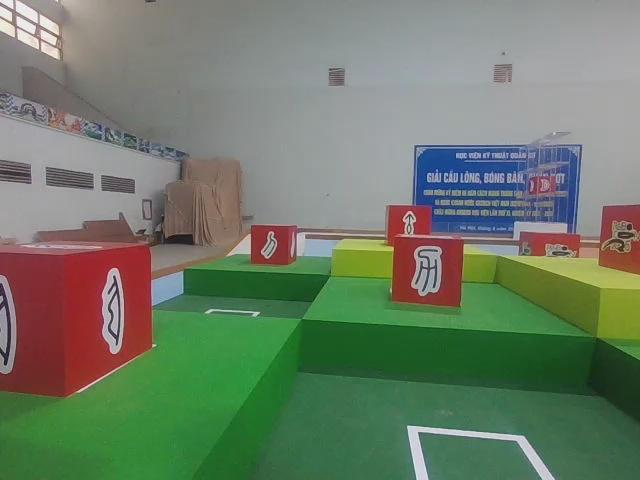R1: (593, 201, 640, 276)
R2 Fake: (389, 233, 466, 309)
R2 Real: (0, 238, 156, 400), (383, 201, 435, 251), (248, 221, 300, 269)
